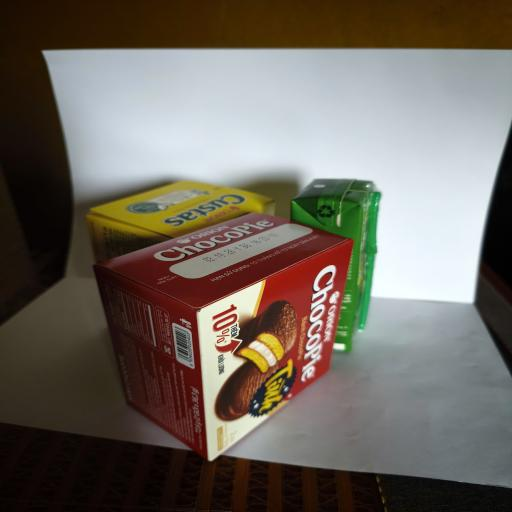chocopie: (92, 212, 355, 462)
custas: (86, 180, 276, 264)
milo: (290, 178, 382, 354)
